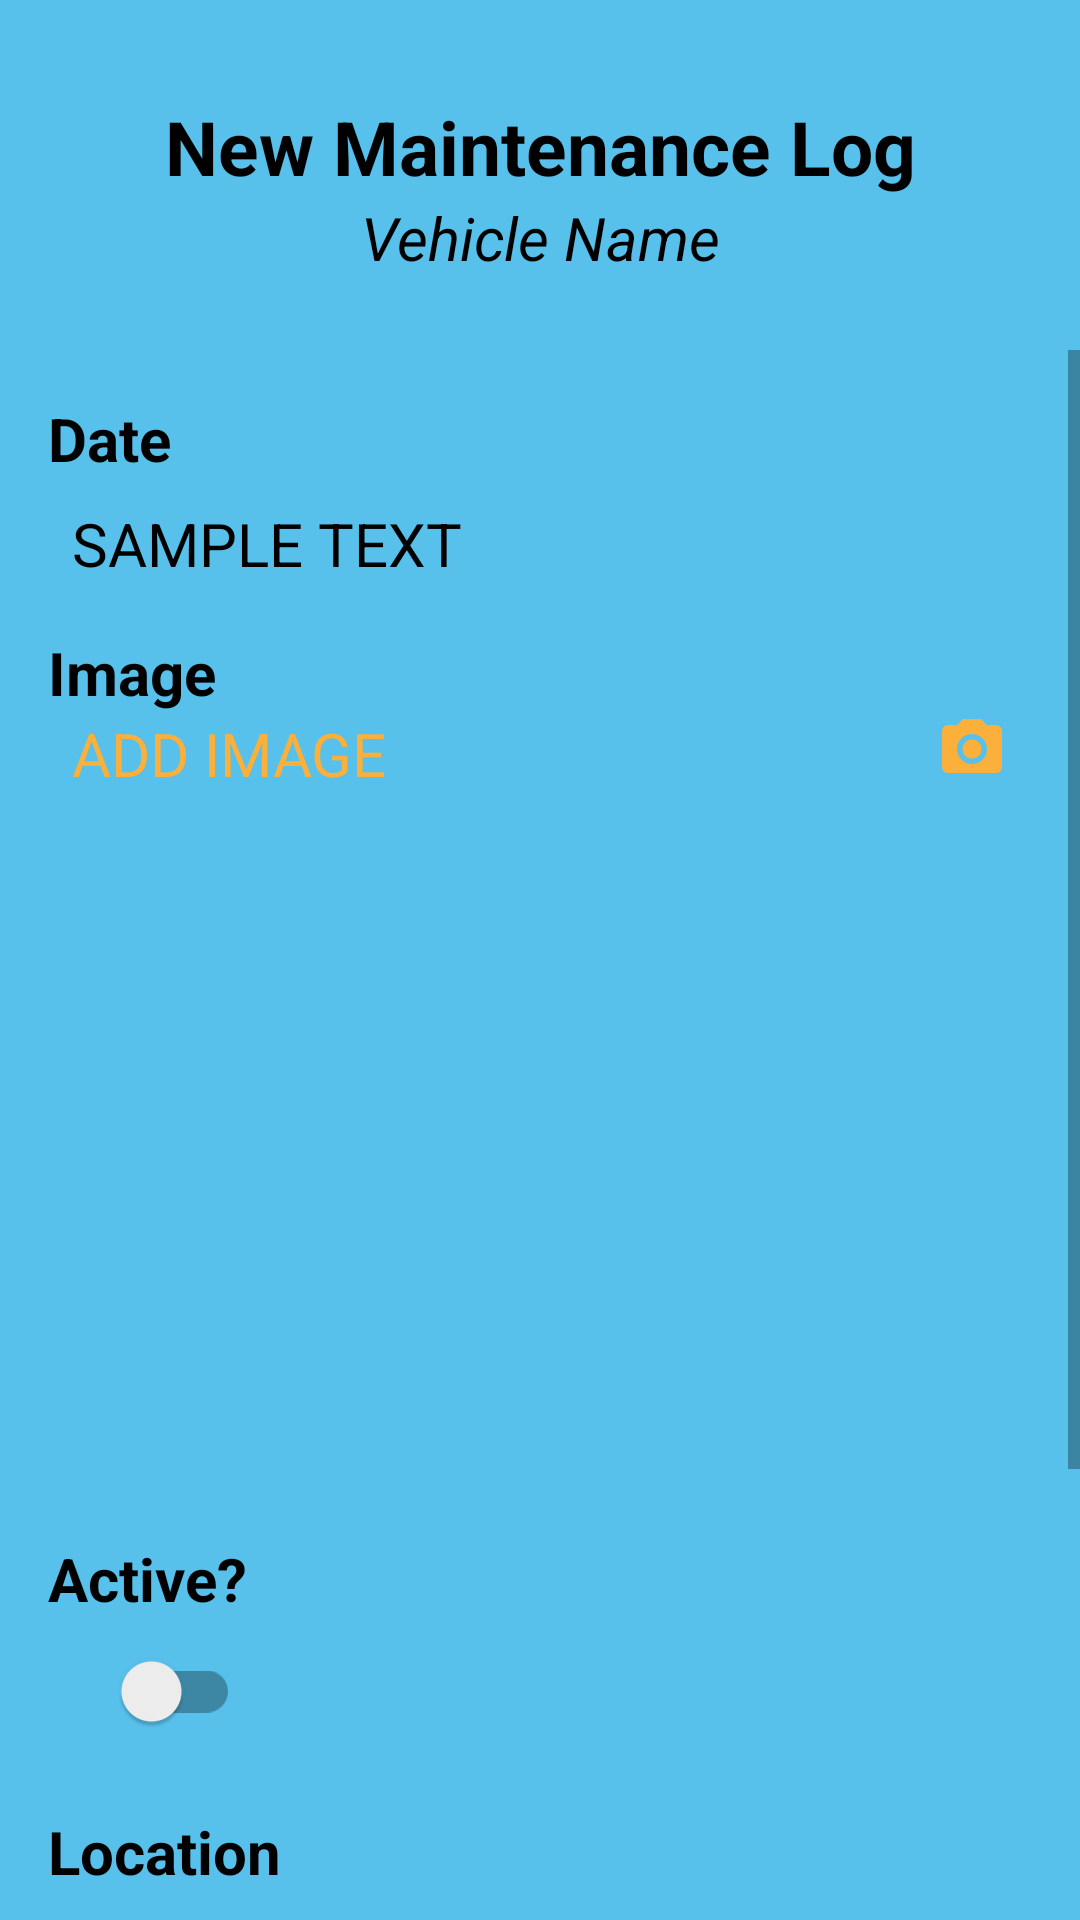

Locate icon controls on the screen. Image size 1080 x 1920, boxes as (x1, y1, x2, y2).
camera: (942, 719, 1002, 773)
